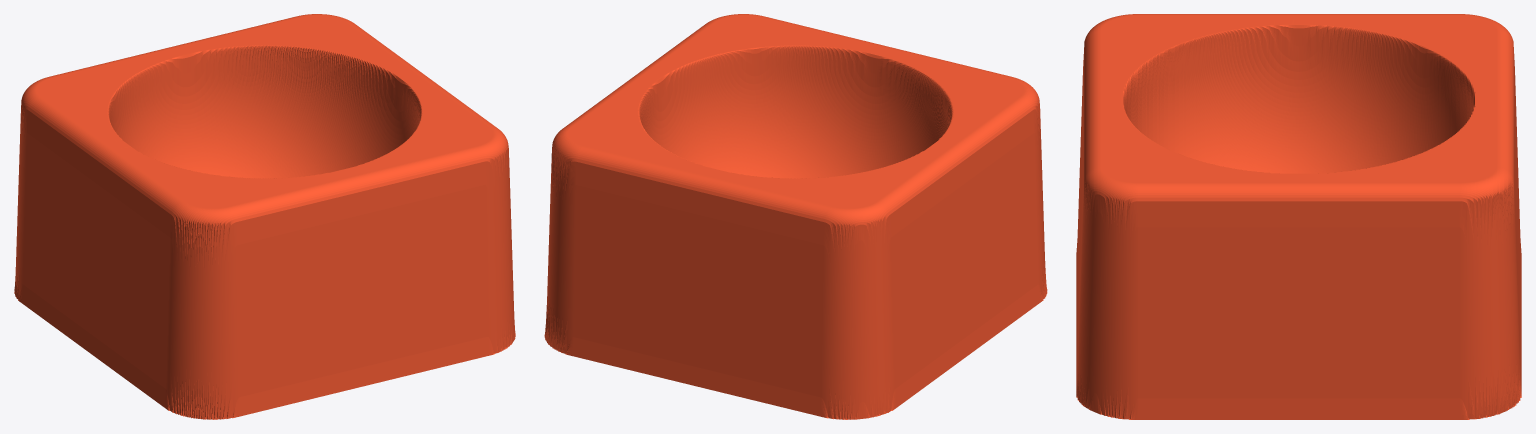
File: mold.glb
3 views of the same model, side by side, from view 1: azimuth 30°, elevation 25°; view 2: azimuth 150°, elevation 25°; view 3: azimuth 270°, elevation 25° (orthographic). The views are drawn at different scales.
Visible parts, largest first — view 1: geometry_0; view 2: geometry_0; view 3: geometry_0.
Part boxes in pixels (x1,y1,x2,y2): geometry_0: (14,14,515,419); geometry_0: (544,14,1047,419); geometry_0: (1076,14,1521,419).
Size of the model in its own units: 0.065 by 0.0365 by 0.065.
